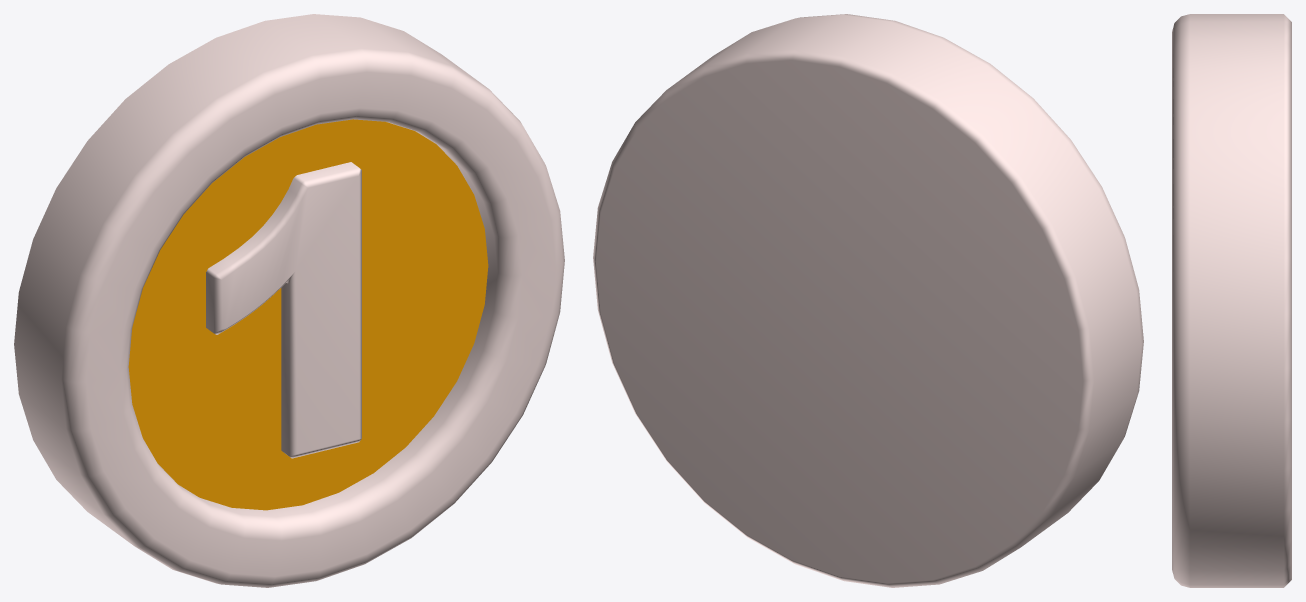
The model's file is City_20_Number_House_1.glb.
3 renders of one model, left to right at view 1: azimuth 30°, elevation 25°; view 2: azimuth 150°, elevation 25°; view 3: azimuth 270°, elevation 25°, orthographic.
Parts seen in each view (by area): view 1: City_20_Number_House_1; view 2: City_20_Number_House_1; view 3: City_20_Number_House_1.
Boxes of the visible parts, x1=… form: City_20_Number_House_1: x1=14, y1=14, x2=564, y2=587; City_20_Number_House_1: x1=593, y1=14, x2=1143, y2=587; City_20_Number_House_1: x1=1172, y1=14, x2=1291, y2=587.
Size of the model in its own units: 0.5101 by 0.5101 by 0.1065.
1 material, 1 textured.
